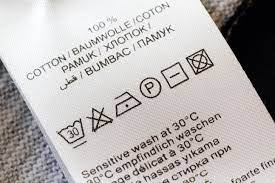ER_dry_clean_chemical: (137, 74, 164, 101)
ER_flat_dry: (159, 60, 190, 89)
ER_iron_low_temp: (110, 89, 143, 118)
ER_no_bleach: (82, 99, 119, 137)
ER_no_tumble_dry: (185, 44, 216, 75)
ER_wash_30_mild: (51, 110, 93, 154)
